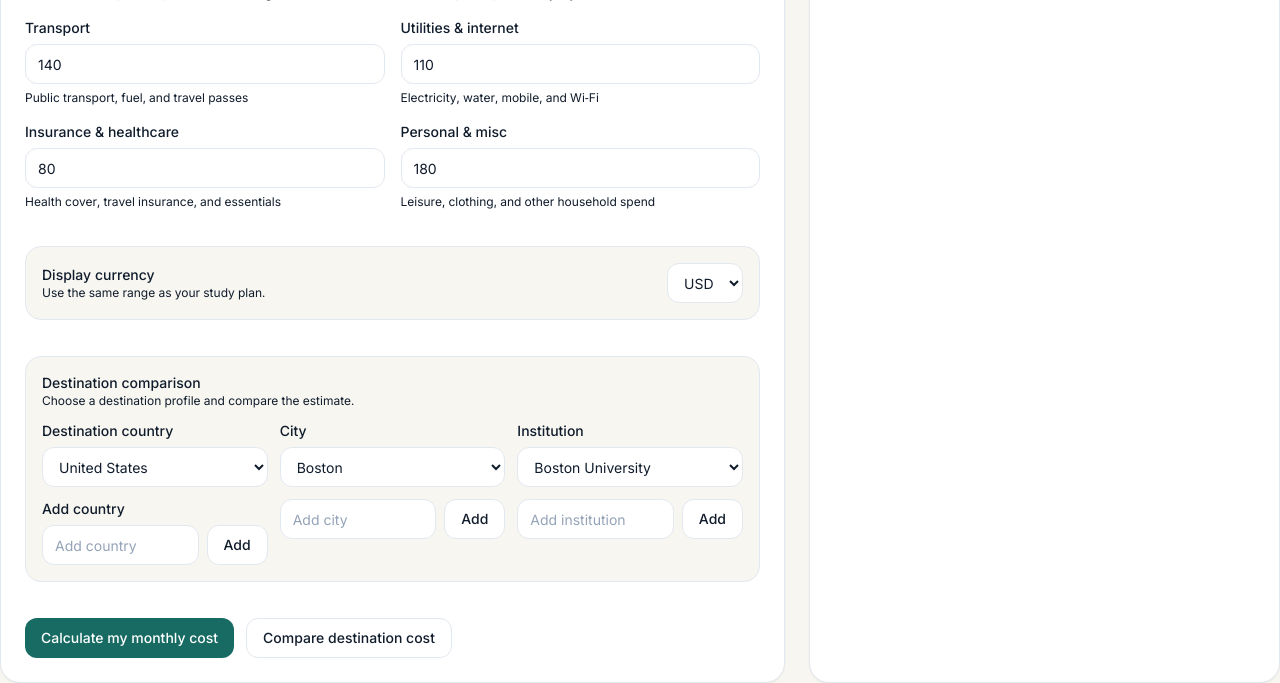
Test: LivingExpensesWorkspace › supports destination comparison using country, city, and institution filters
(page scrolled)
Step 1. Select "United Kingdom" in the dropdown labelled "Destination country" → point(155, 467), box x1=42 y1=447 x2=268 y2=487
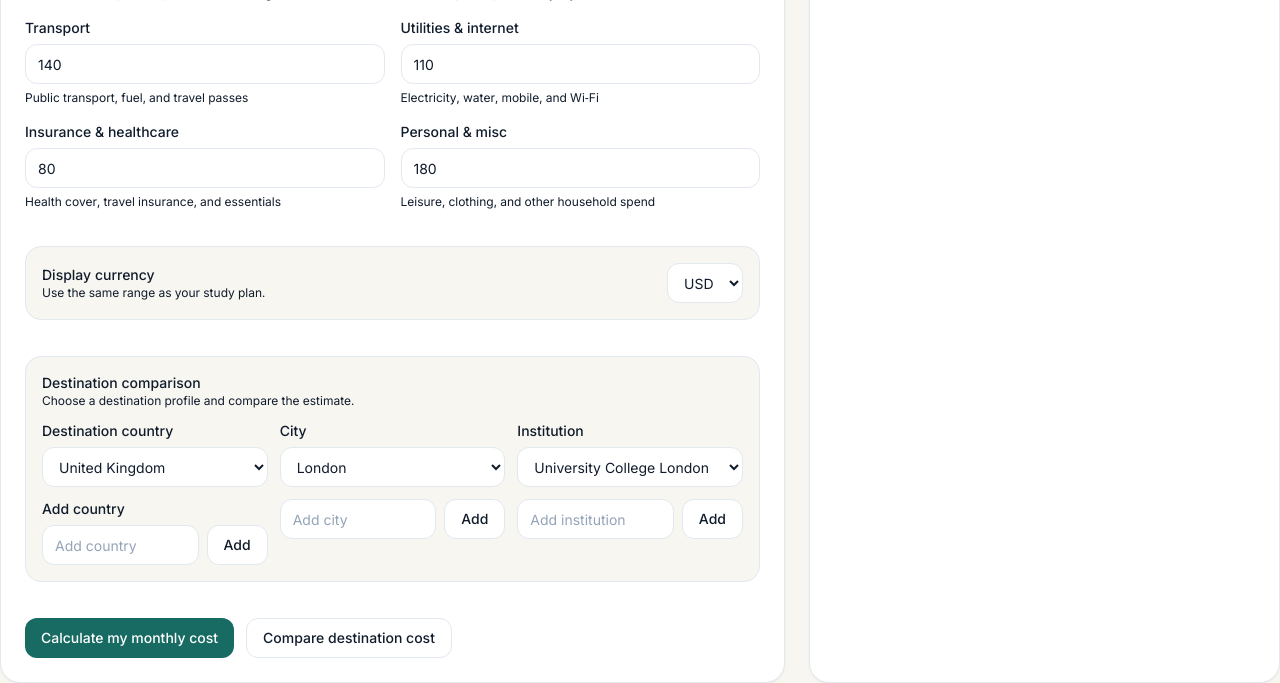
Step 2. Select "London" in the dropdown labelled "City" → point(393, 467), box x1=280 y1=447 x2=505 y2=487
Step 3. Select "University College London" in the dropdown labelled "Institution" → point(630, 467), box x1=517 y1=447 x2=743 y2=487
Step 4. Click the button "Compare destination cost" → point(349, 638), box x1=246 y1=618 x2=452 y2=658
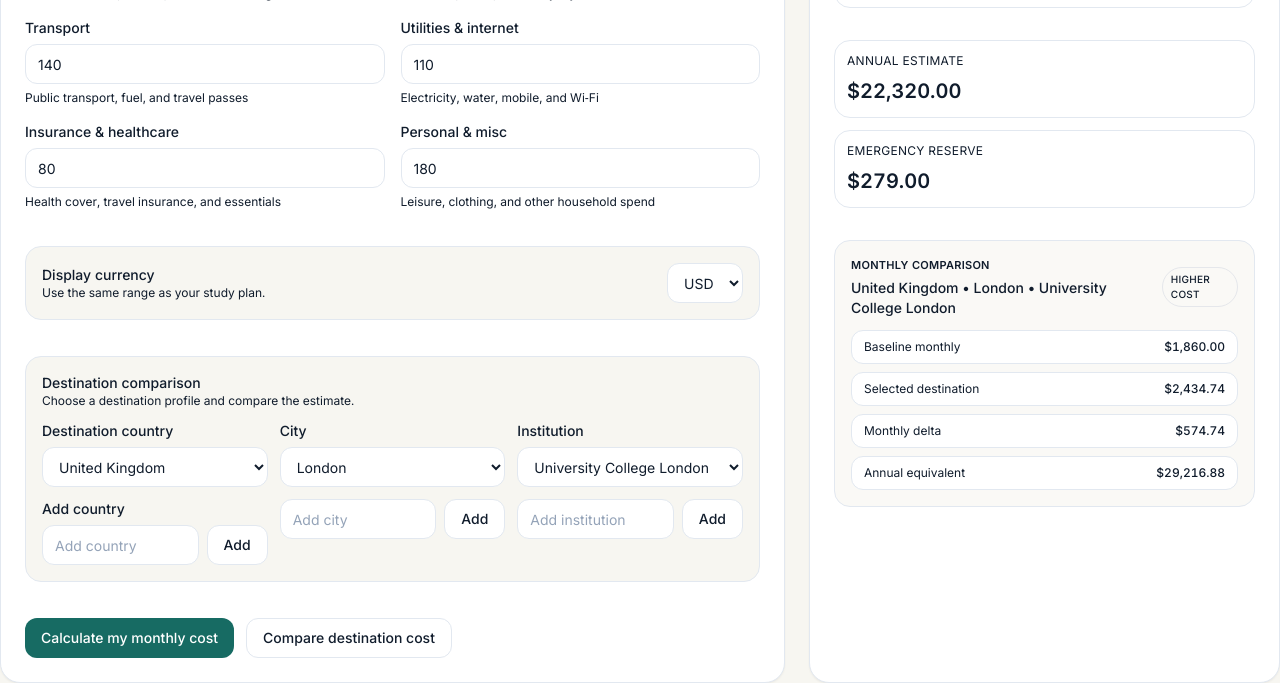
Expected: the text "Monthly comparison" is shown, x1=851 y1=258 x2=990 y2=272
